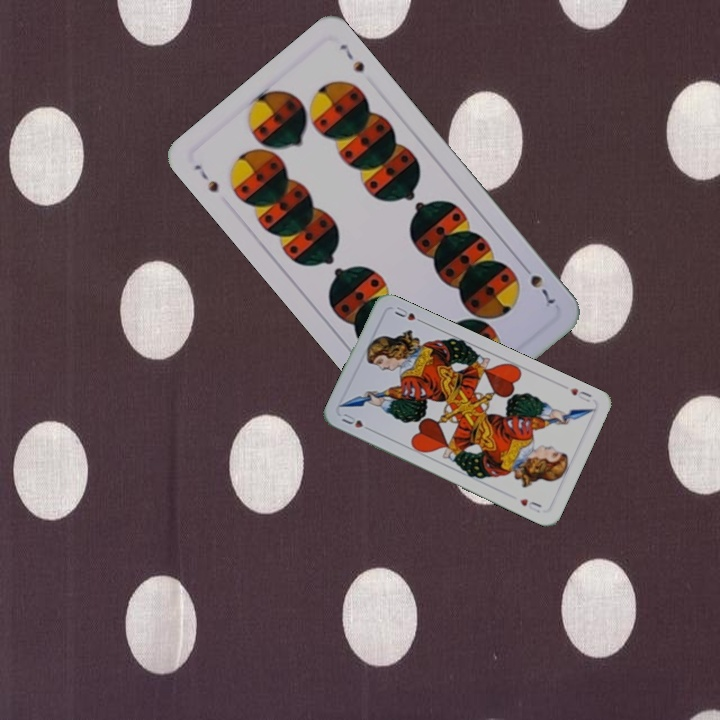HU: (338, 409, 375, 434), (566, 384, 594, 405)
S7: (517, 259, 558, 307), (189, 160, 221, 196)
